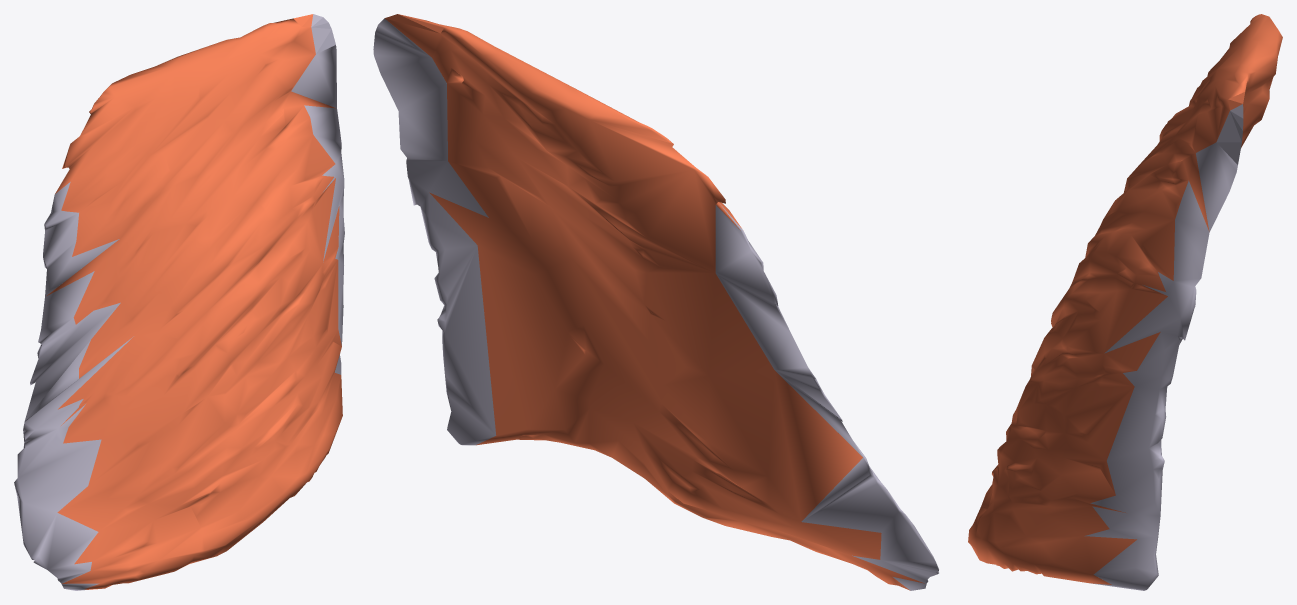
Rendered from Pronator_quadratus.r_Generated_Mesh_From_X3D.284.glb.
The picture shows the model from 3 angles, left to right: view 1: azimuth 30°, elevation 25°; view 2: azimuth 150°, elevation 25°; view 3: azimuth 270°, elevation 25°; orthographic projection. The views are drawn at different scales.
Visible parts, largest first — view 1: Pronator_quadratus.r_Generated_Mesh_From_X3D.284; view 2: Pronator_quadratus.r_Generated_Mesh_From_X3D.284; view 3: Pronator_quadratus.r_Generated_Mesh_From_X3D.284.
Part boxes in pixels (x1,y1,x2,y2): Pronator_quadratus.r_Generated_Mesh_From_X3D.284: (14, 14, 344, 590); Pronator_quadratus.r_Generated_Mesh_From_X3D.284: (373, 14, 938, 590); Pronator_quadratus.r_Generated_Mesh_From_X3D.284: (968, 14, 1282, 590).
Size of the model in its own units: 0.047 by 0.0521 by 0.0247.
